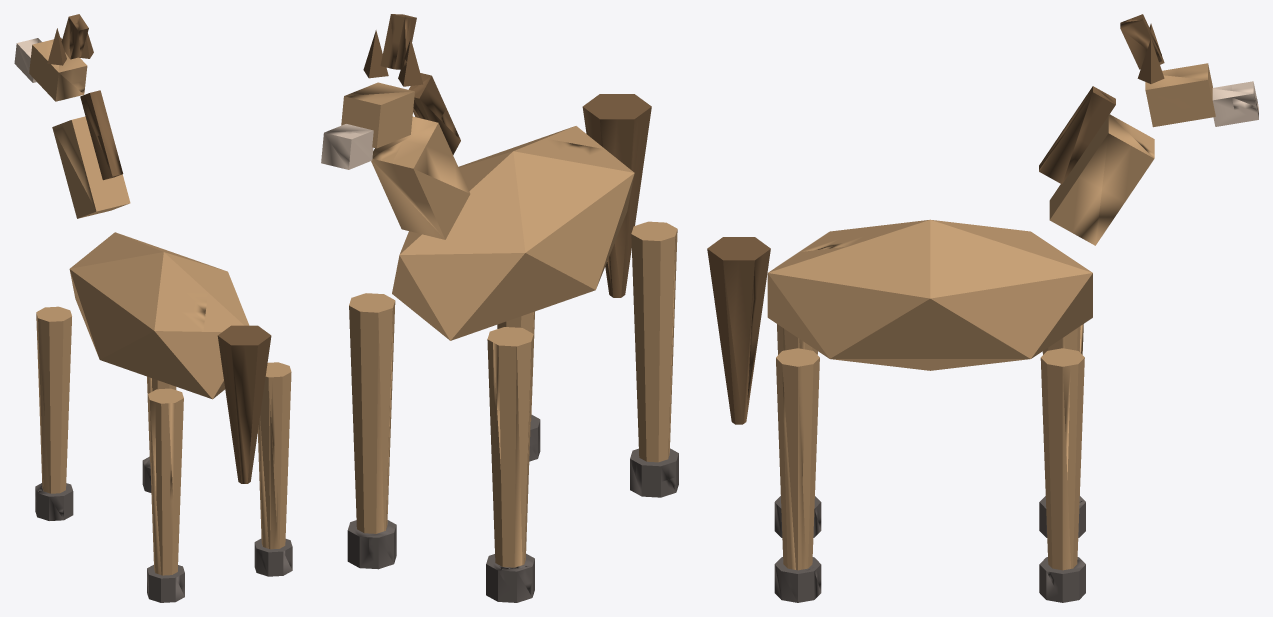
Rendered from horse.glb.
3 views of the same model, side by side, from view 1: azimuth 30°, elevation 25°; view 2: azimuth 150°, elevation 25°; view 3: azimuth 270°, elevation 25° (orthographic). The views are drawn at different scales.
Visible parts, largest first — view 1: HorseBody; view 2: HorseBody; view 3: HorseBody.
Boxes of the visible parts, <box> form: HorseBody: <box>14,14,292,602</box>; HorseBody: <box>321,14,678,602</box>; HorseBody: <box>707,14,1258,602</box>.
Bounding box in the file's own units: 0.79 × 2.45 × 2.25.
